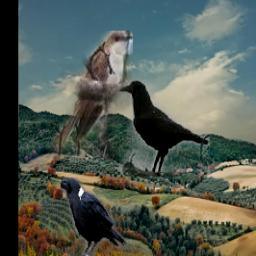Crow: (119, 81, 210, 177), (60, 179, 126, 256)
Cuckoo: (46, 31, 132, 160)
